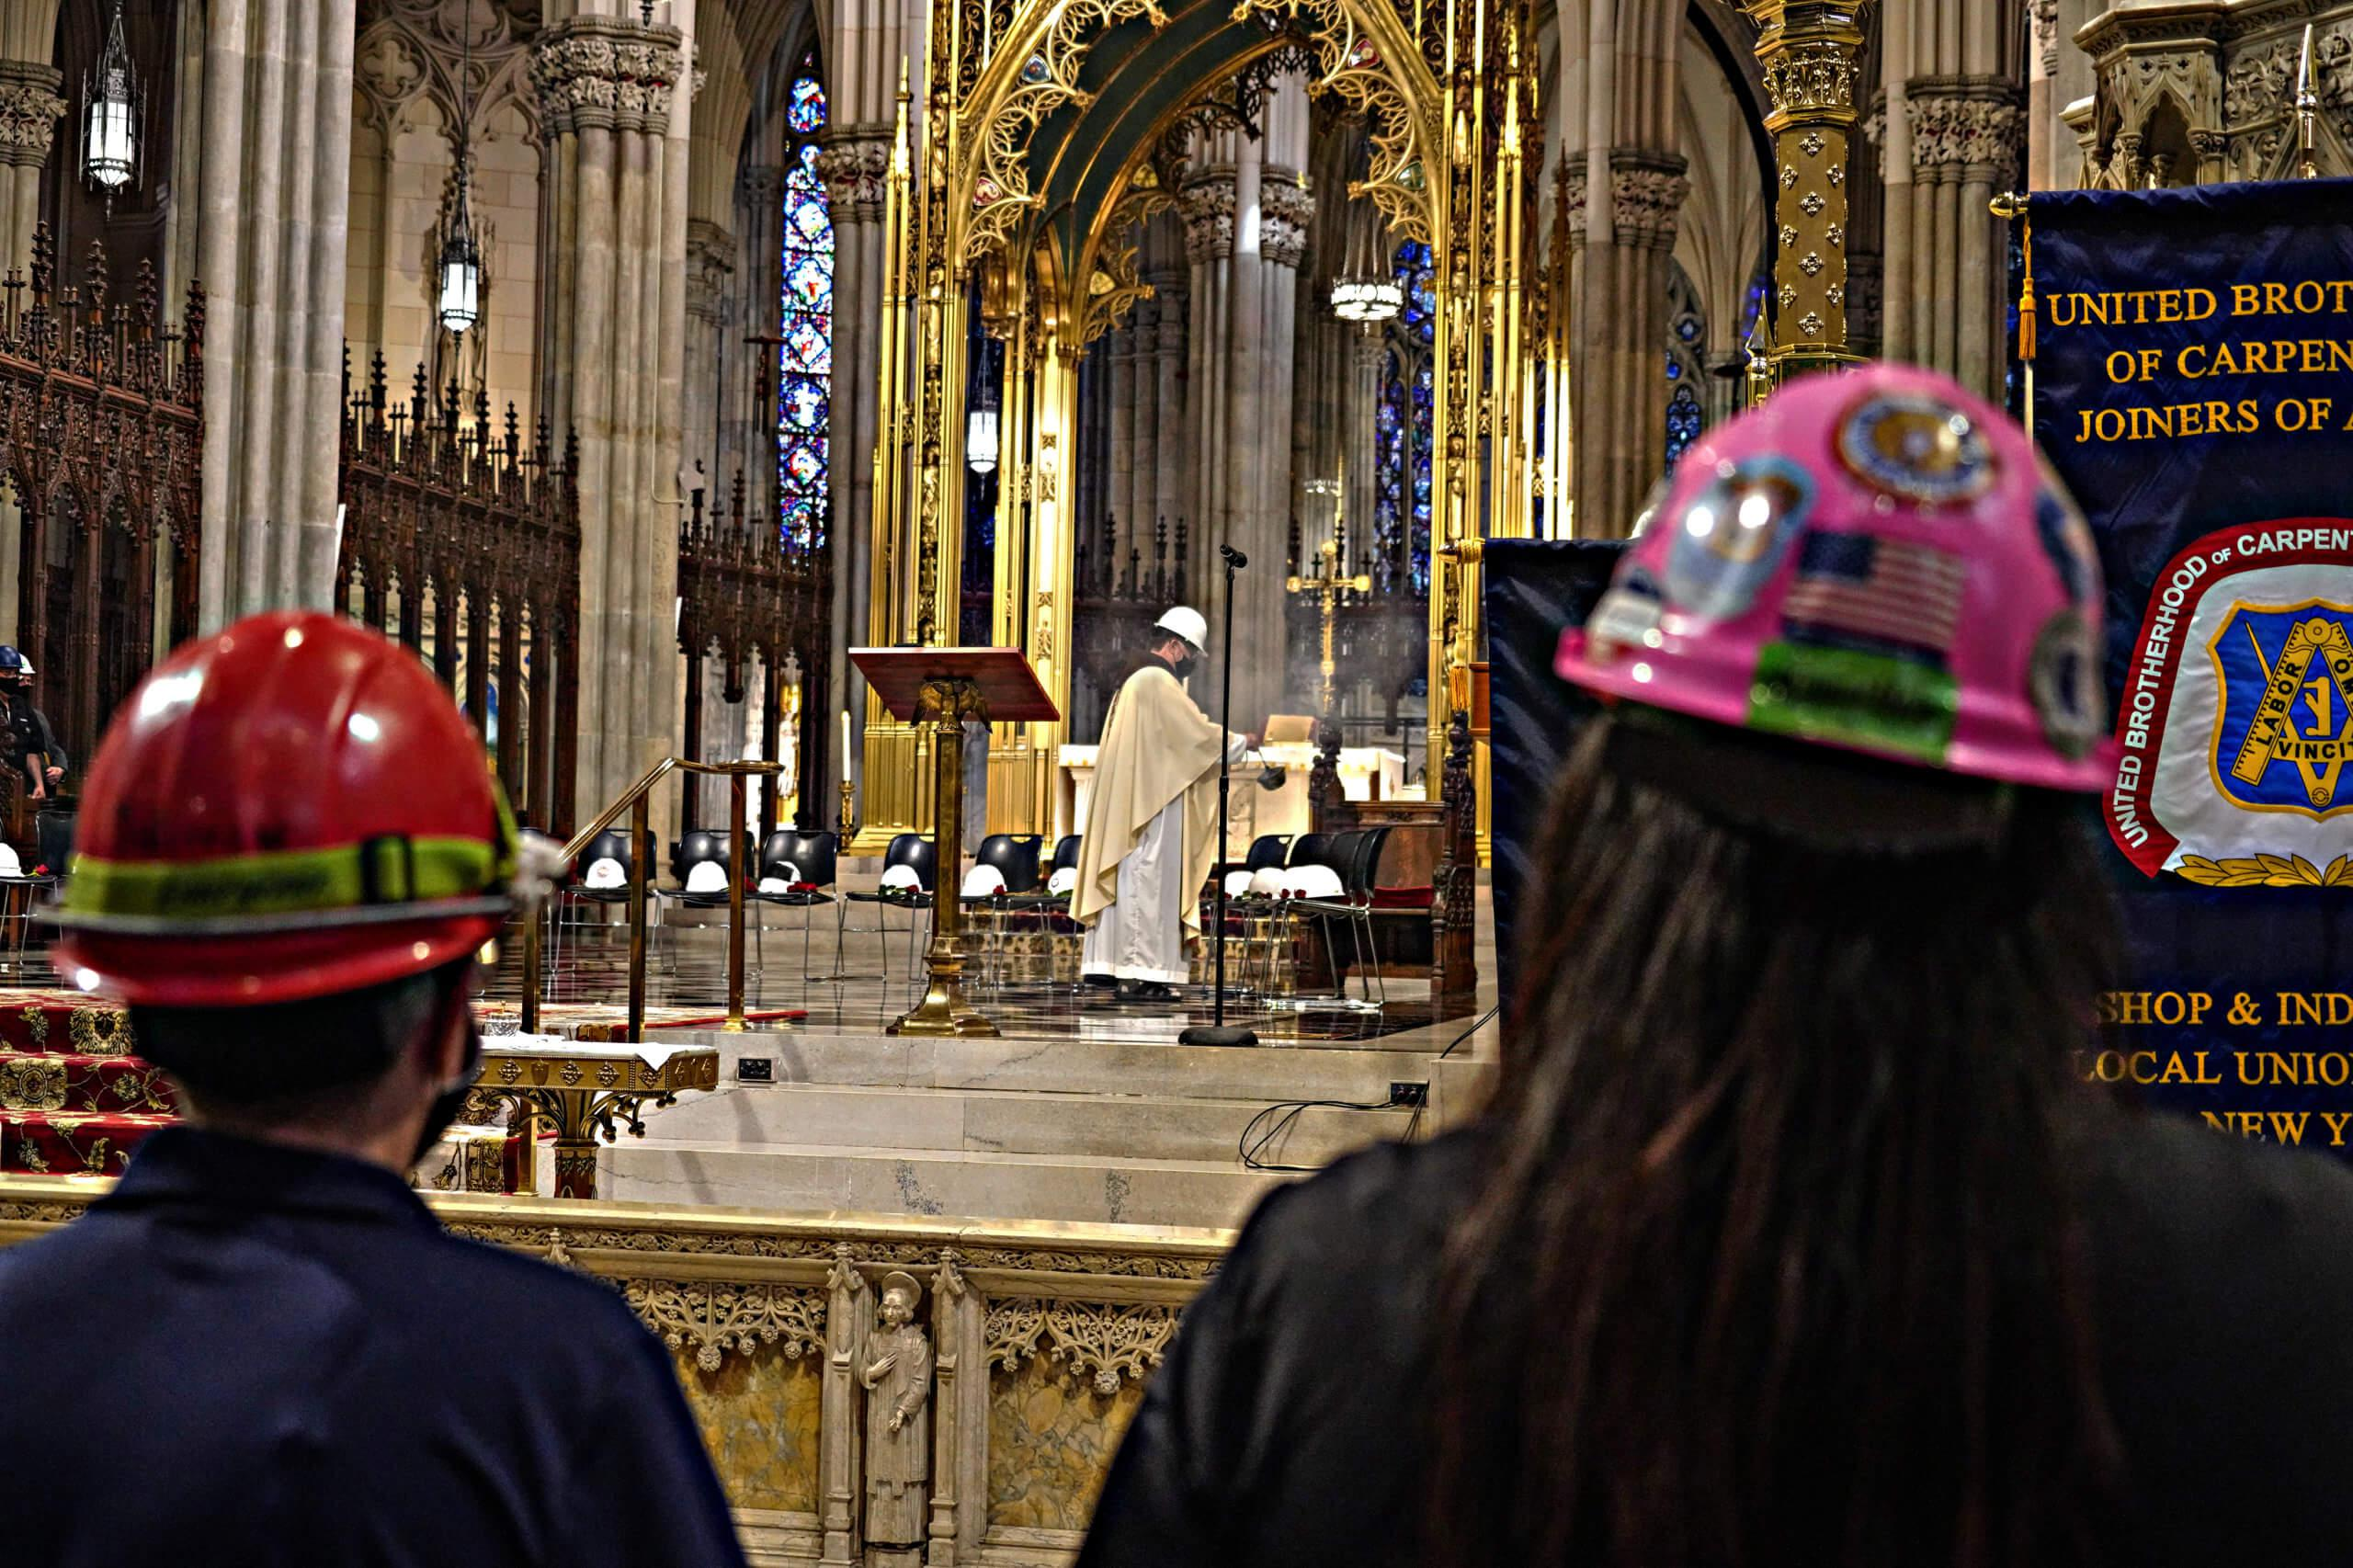hardhat: (1557, 369, 2101, 768), (58, 616, 523, 1017), (1155, 605, 1211, 660)
